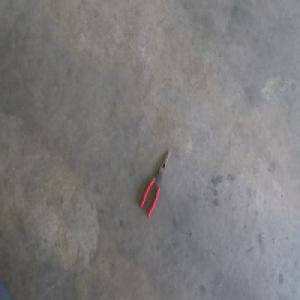Pliers: (139, 144, 170, 213)
